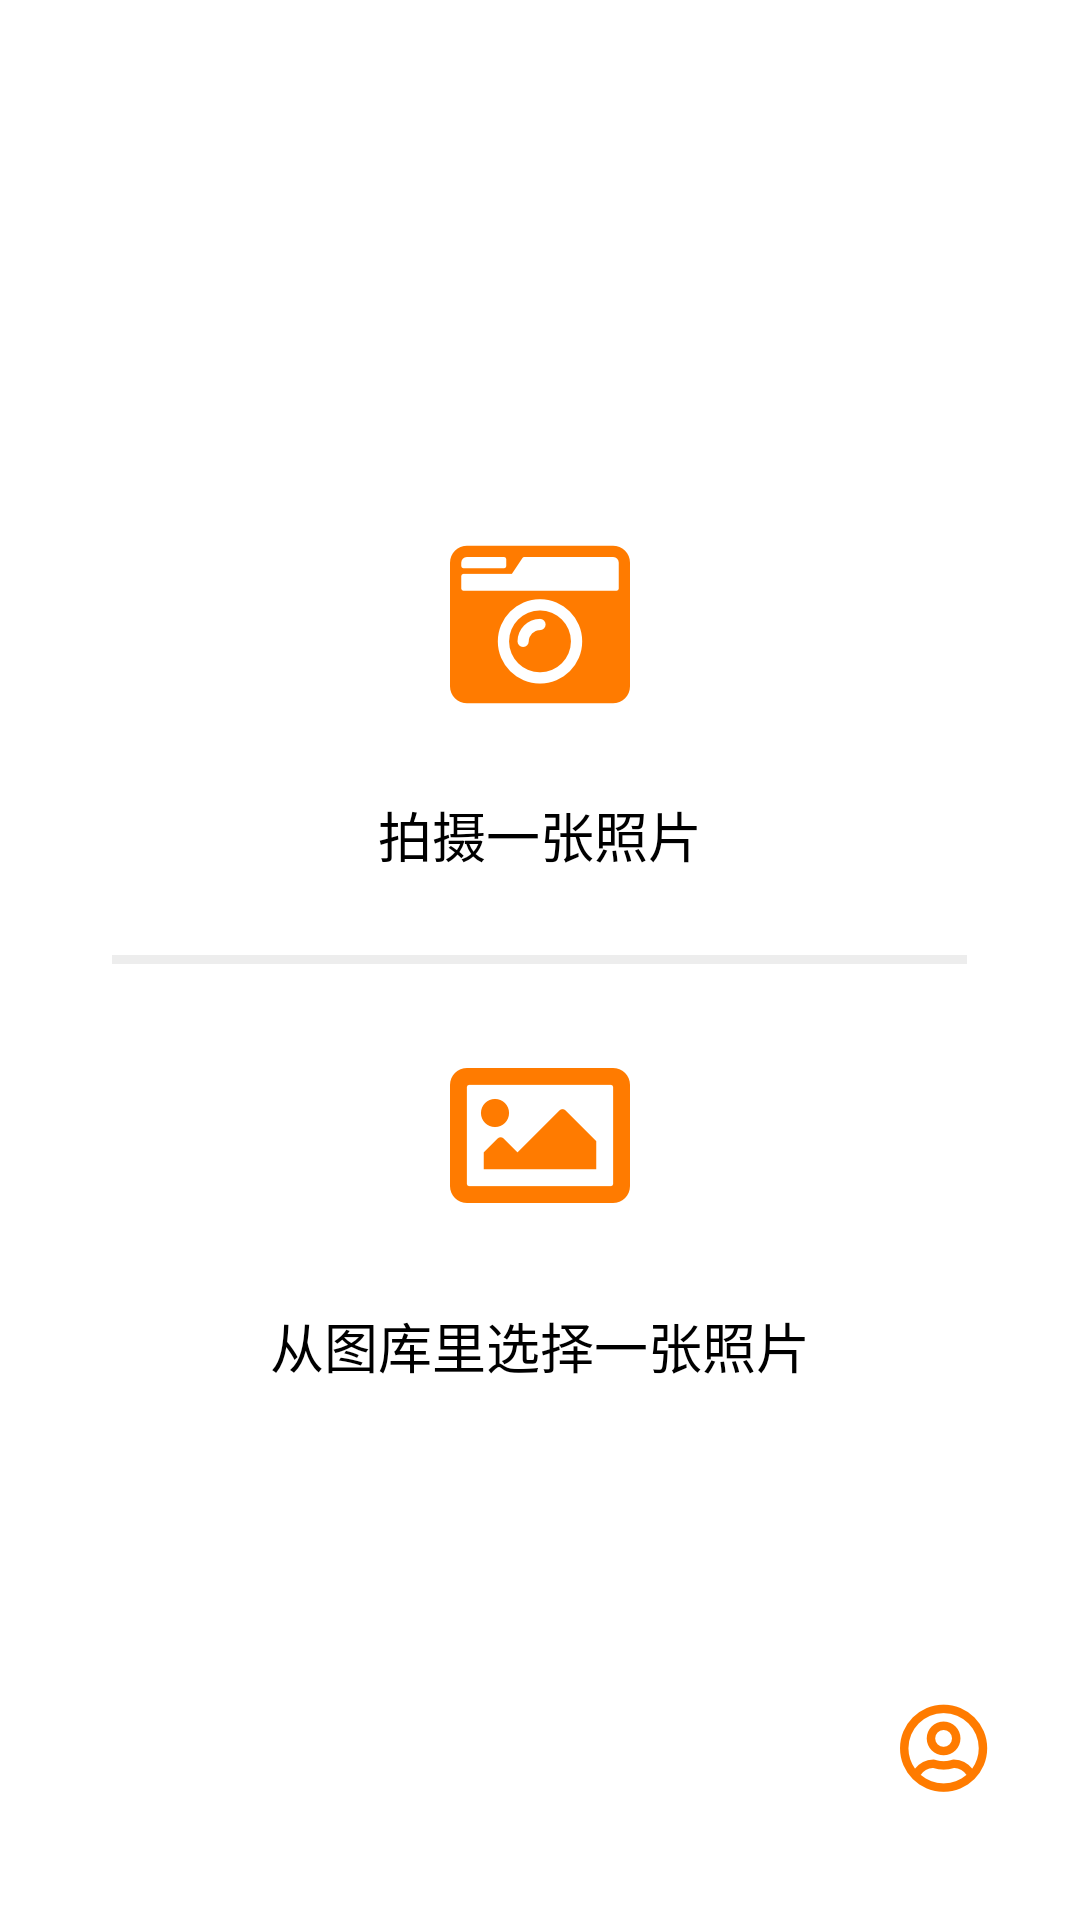

Screen size 1080*1920. Icon name, then its center in pixels as point (x, y):
im select: point (540, 1135)
im take: point (540, 624)
im user: point (944, 1748)
